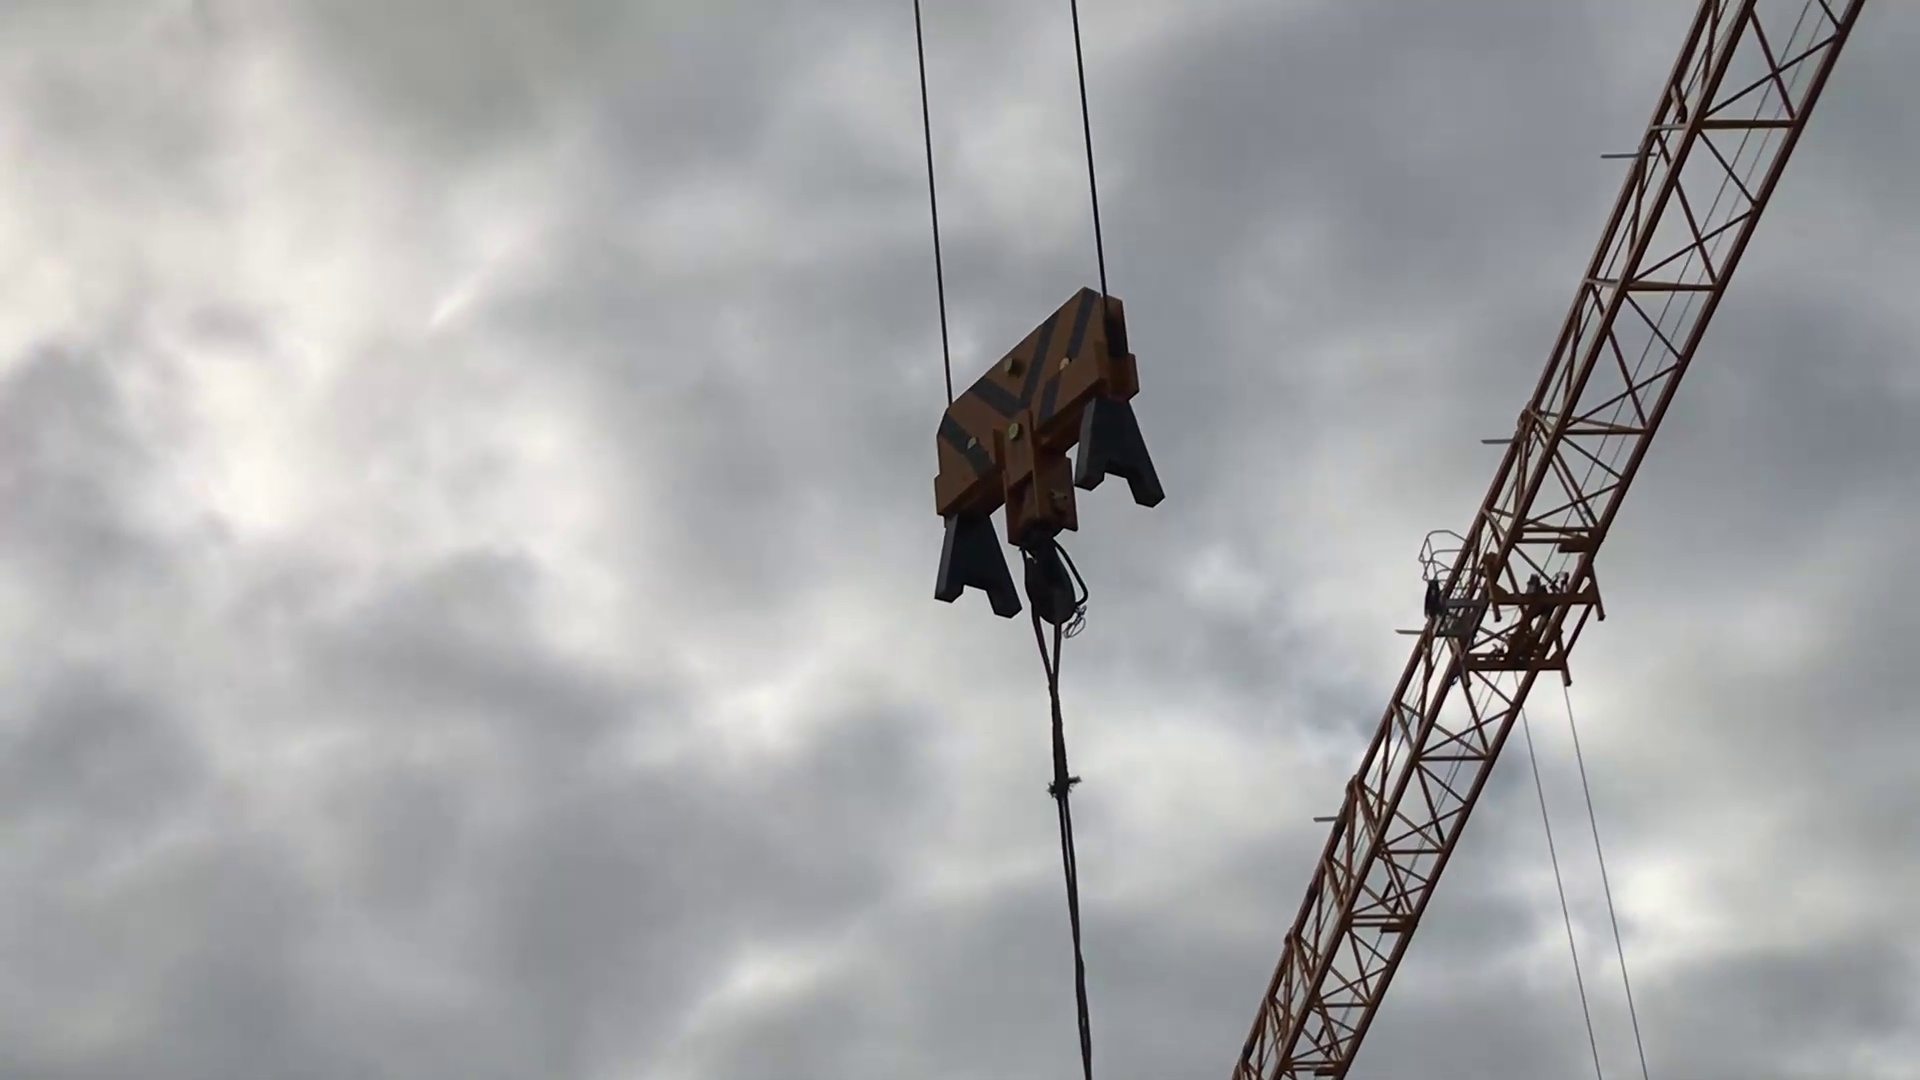hook: (913, 282, 1182, 638)
